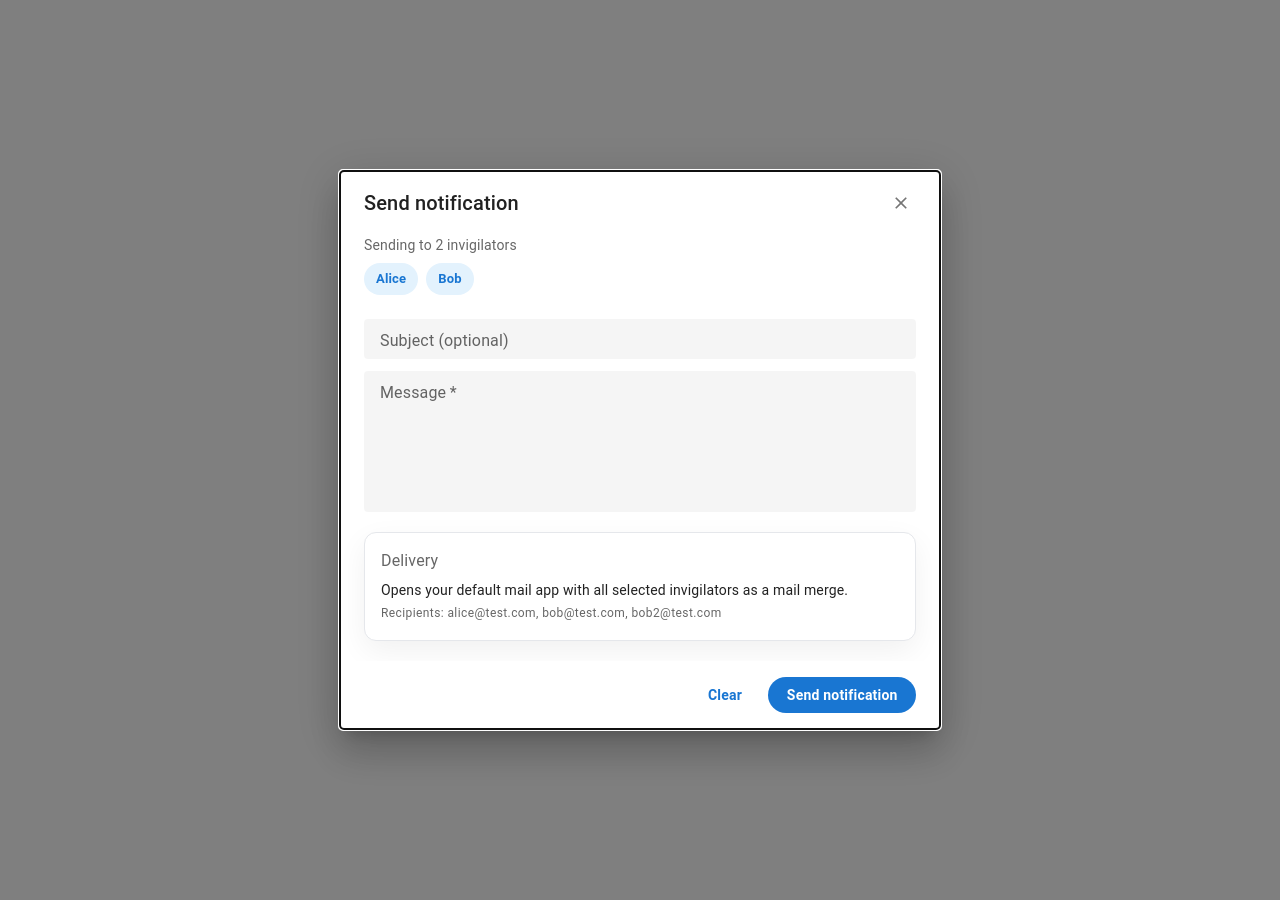
Test: Components - NotifyDialog › validates missing message
Click the button "Send notification": [842, 695] box [768,677,916,713]
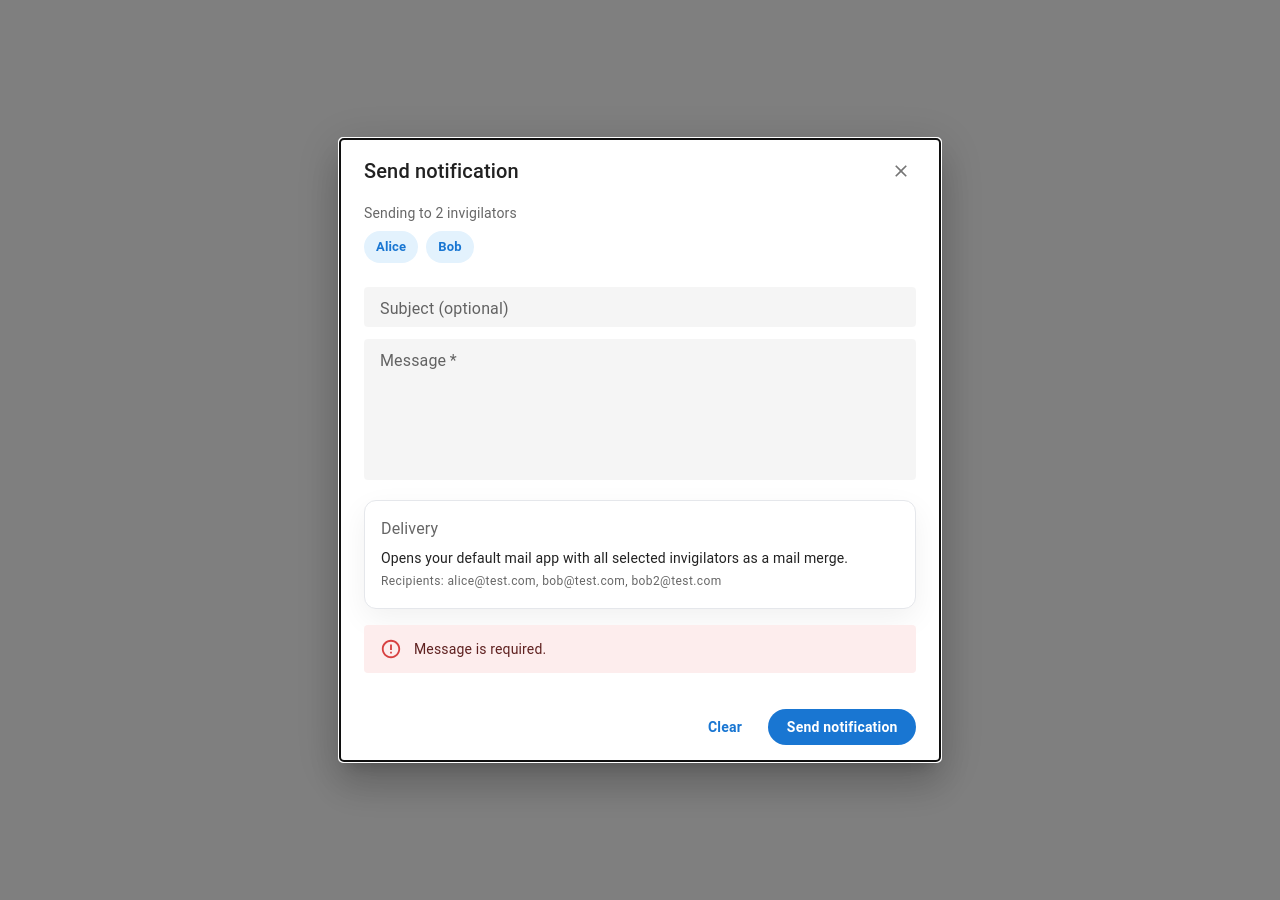
Result: the text "Message is required." is shown at [414,641,546,657]
